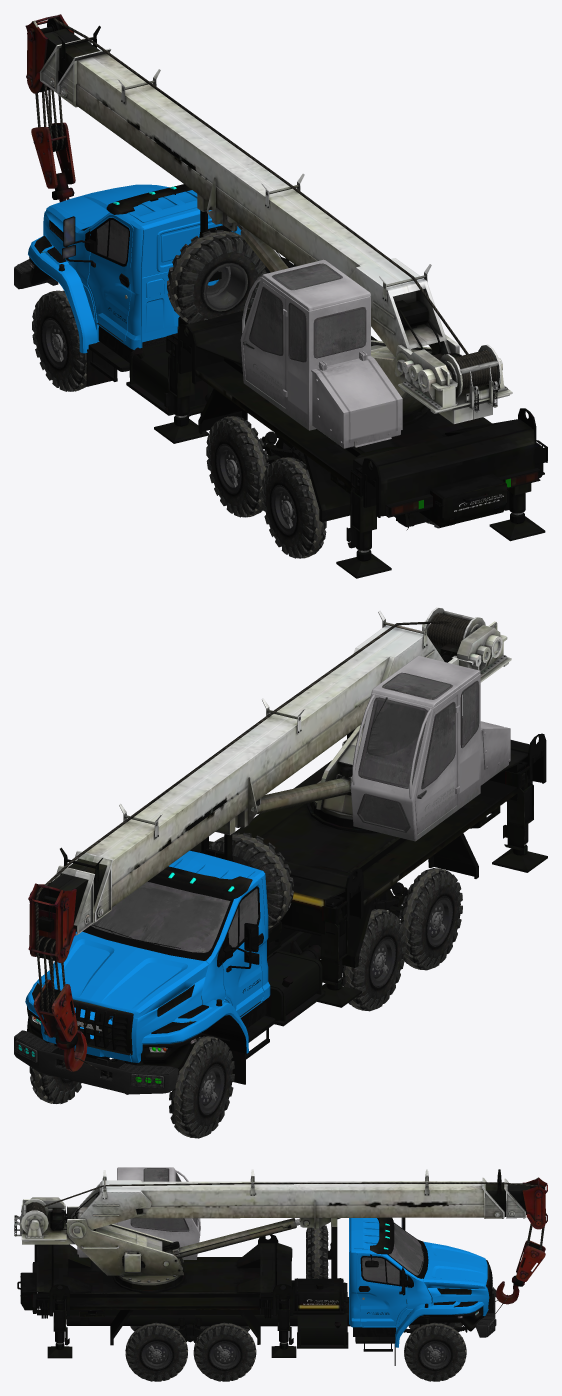
File: crane-truck.glb
3 views of the same model, one above another, from view 1: azimuth 30°, elevation 25°; view 2: azimuth 150°, elevation 25°; view 3: azimuth 270°, elevation 25° (orthographic). The views are drawn at different scales.
Visible parts, largest first — view 1: chassis (×2), wheel (×3), Kabina, windscreen_ok, door_lf_ok, bonnet_ok; view 2: chassis (×2), Kabina, wheel (×4), windscreen_ok, bonnet_ok, door_lf_ok; view 3: chassis (×2), Kabina, door_rf_ok, wheel001, wheel, wheel002, bonnet_ok, windscreen_ok.
Part boxes in pixels (bbox=[...]): chassis (×2): bbox=[14, 14, 547, 578]; wheel (×3): bbox=[32, 290, 326, 558]; Kabina: bbox=[28, 184, 241, 353]; windscreen_ok: bbox=[250, 264, 364, 360]; door_lf_ok: bbox=[62, 214, 133, 341]; bonnet_ok: bbox=[45, 184, 169, 238]; chassis (×2): bbox=[14, 607, 547, 1094]; Kabina: bbox=[25, 850, 270, 1071]; wheel (×4): bbox=[29, 868, 462, 1138]; windscreen_ok: bbox=[90, 673, 478, 952]; bonnet_ok: bbox=[47, 931, 208, 1017]; door_lf_ok: bbox=[219, 879, 264, 1016]; chassis (×2): bbox=[14, 1167, 547, 1365]; Kabina: bbox=[349, 1217, 492, 1347]; door_rf_ok: bbox=[357, 1253, 407, 1326]; wheel001: bbox=[125, 1322, 187, 1381]; wheel: bbox=[404, 1322, 466, 1381]; wheel002: bbox=[193, 1322, 256, 1381]; bonnet_ok: bbox=[423, 1242, 487, 1288]; windscreen_ok: bbox=[130, 1168, 423, 1275].
Size of the model in its own units: 2.96 by 4.3 by 11.32.
Materials: 24 (12 with a texture image).
